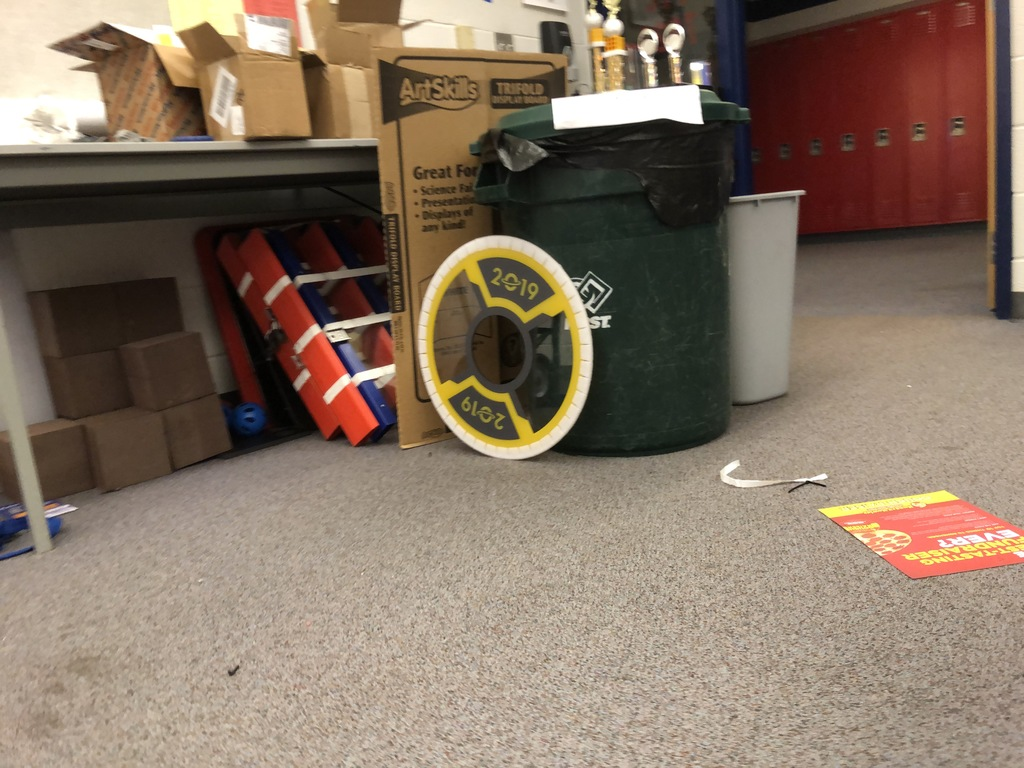hatch_panel: (391, 217, 599, 491)
